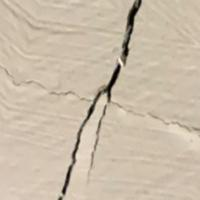crack: (53, 0, 154, 199)
